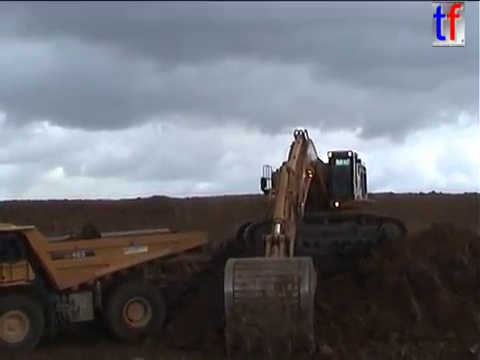excavator: (218, 125, 410, 360)
truck: (1, 219, 211, 356)
